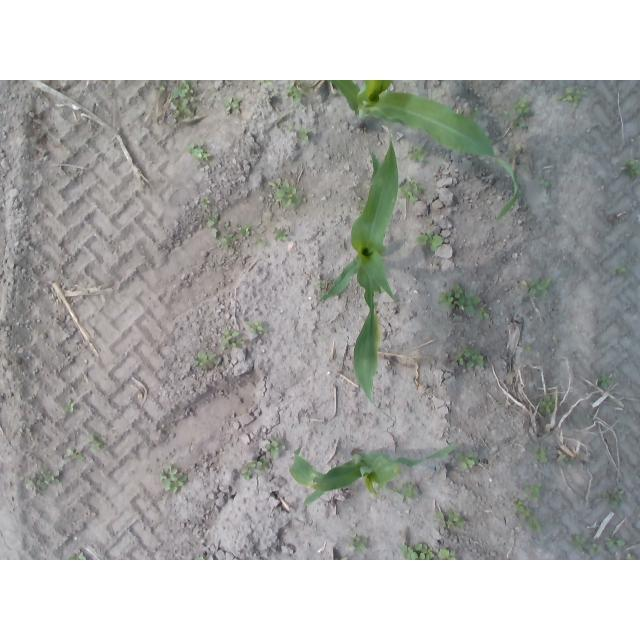Maize: (334, 80, 519, 221), (318, 125, 399, 419), (288, 445, 456, 505)
Weeds: (268, 178, 298, 205), (160, 467, 187, 494), (208, 213, 231, 237), (453, 349, 483, 367), (419, 229, 443, 251), (404, 545, 436, 560), (525, 278, 551, 295), (457, 293, 478, 314), (222, 329, 245, 348), (435, 511, 465, 525), (562, 88, 586, 105), (171, 98, 191, 118), (266, 440, 286, 458), (243, 460, 262, 478), (403, 182, 421, 201), (604, 488, 624, 504), (456, 452, 476, 468), (525, 480, 540, 501), (225, 96, 243, 112), (191, 143, 210, 158), (32, 476, 48, 492), (438, 291, 454, 306), (353, 536, 370, 550), (289, 86, 304, 101), (274, 227, 290, 241), (199, 354, 217, 366), (605, 537, 624, 548), (403, 484, 420, 496), (542, 396, 554, 413), (410, 148, 426, 160), (623, 164, 639, 175), (246, 322, 263, 332), (89, 436, 103, 448), (517, 102, 531, 114), (71, 447, 86, 458), (171, 88, 187, 98), (222, 236, 234, 249), (48, 470, 60, 482), (438, 548, 450, 560), (297, 129, 309, 141), (66, 399, 75, 414), (577, 536, 587, 549), (184, 82, 194, 94), (598, 375, 610, 385), (612, 266, 627, 274), (238, 225, 250, 235), (454, 285, 463, 298), (200, 197, 211, 207), (514, 498, 523, 510), (498, 107, 508, 117), (531, 519, 541, 529), (521, 508, 531, 518), (478, 310, 489, 319), (255, 237, 267, 245), (542, 178, 551, 188), (537, 451, 547, 459), (525, 344, 531, 351)
